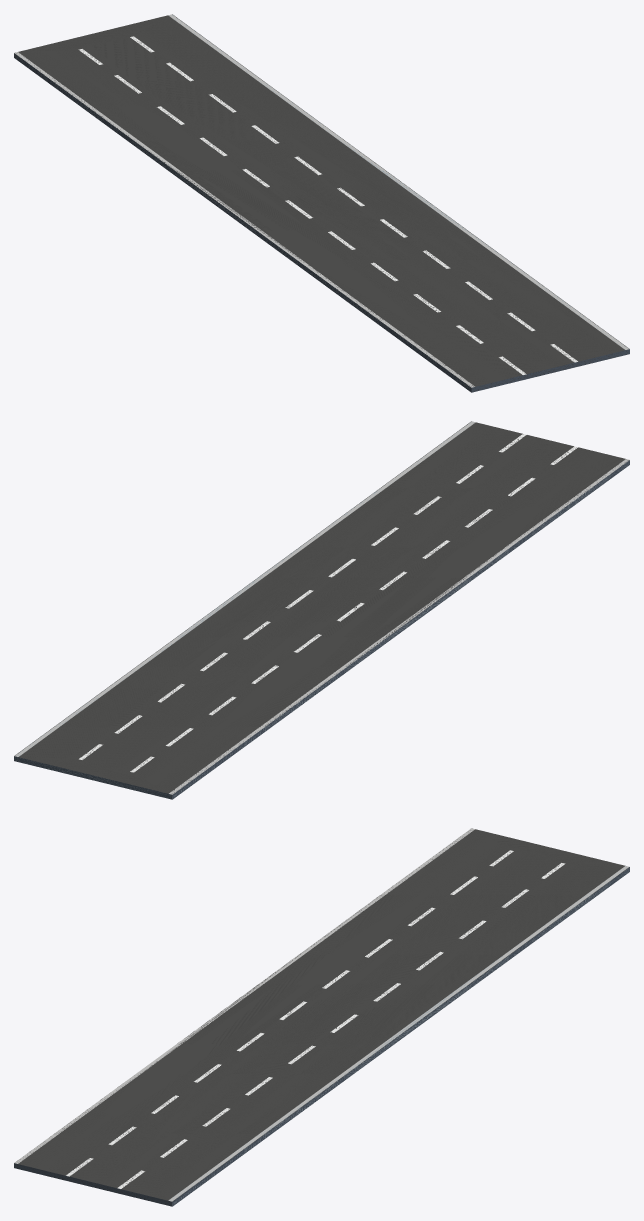
Rendered from Straight Road.dae.
3 renders of one model, top to bottom at view 1: azimuth 30°, elevation 25°; view 2: azimuth 150°, elevation 25°; view 3: azimuth 330°, elevation 25°, orthographic.
Visible parts, largest first — view 1: group_0 (×5); view 2: group_0 (×4); view 3: group_0 (×5).
Boxes of the visible parts, x1,y1,x2,y2 form: group_0 (×5): (14,14,629,392); group_0 (×4): (14,421,629,799); group_0 (×5): (14,828,629,1206).
Bounding box in the file's own units: 3937 × 19685 × 118.
